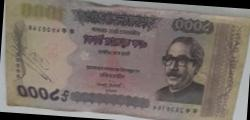1000 taka: (9, 1, 237, 112)
